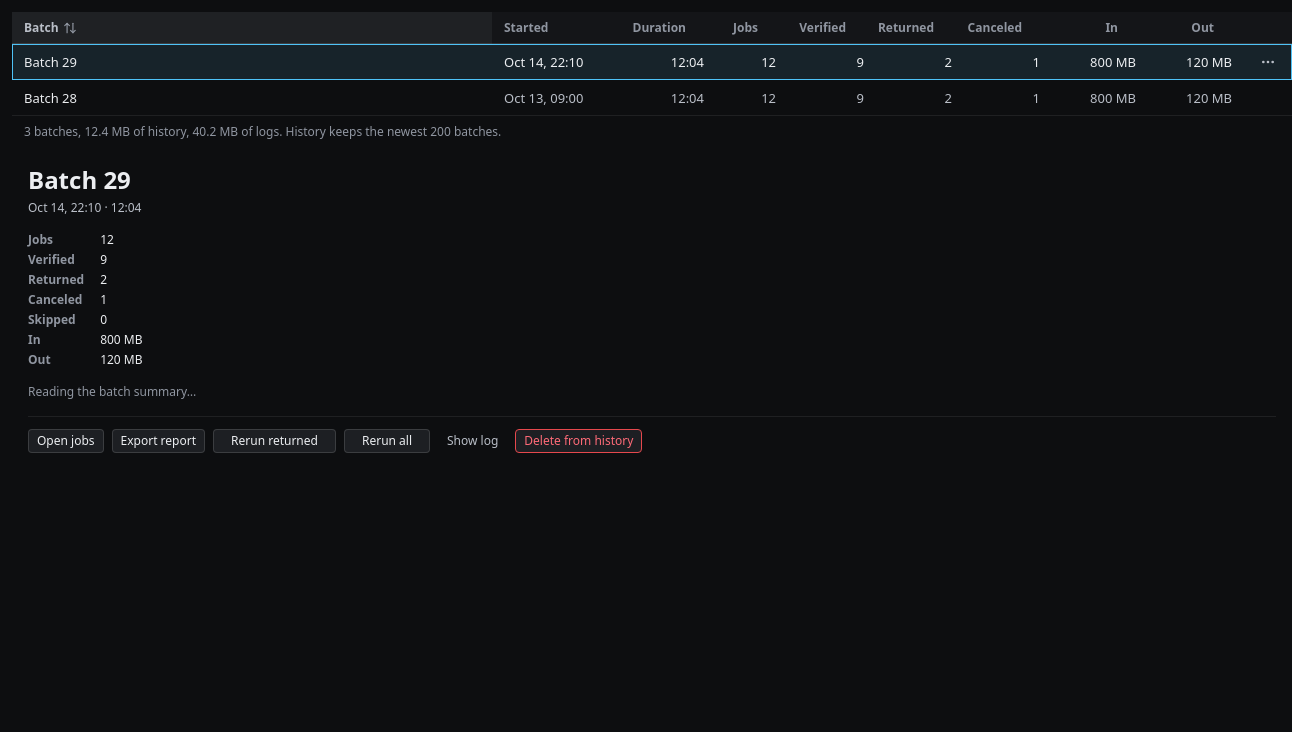
History inspector › deletes from history after its inline confirmation and moves focus to the next batch row
The image size is (1292, 732).
Click the button "Delete from history" at (579, 441), box [515,429,642,453]
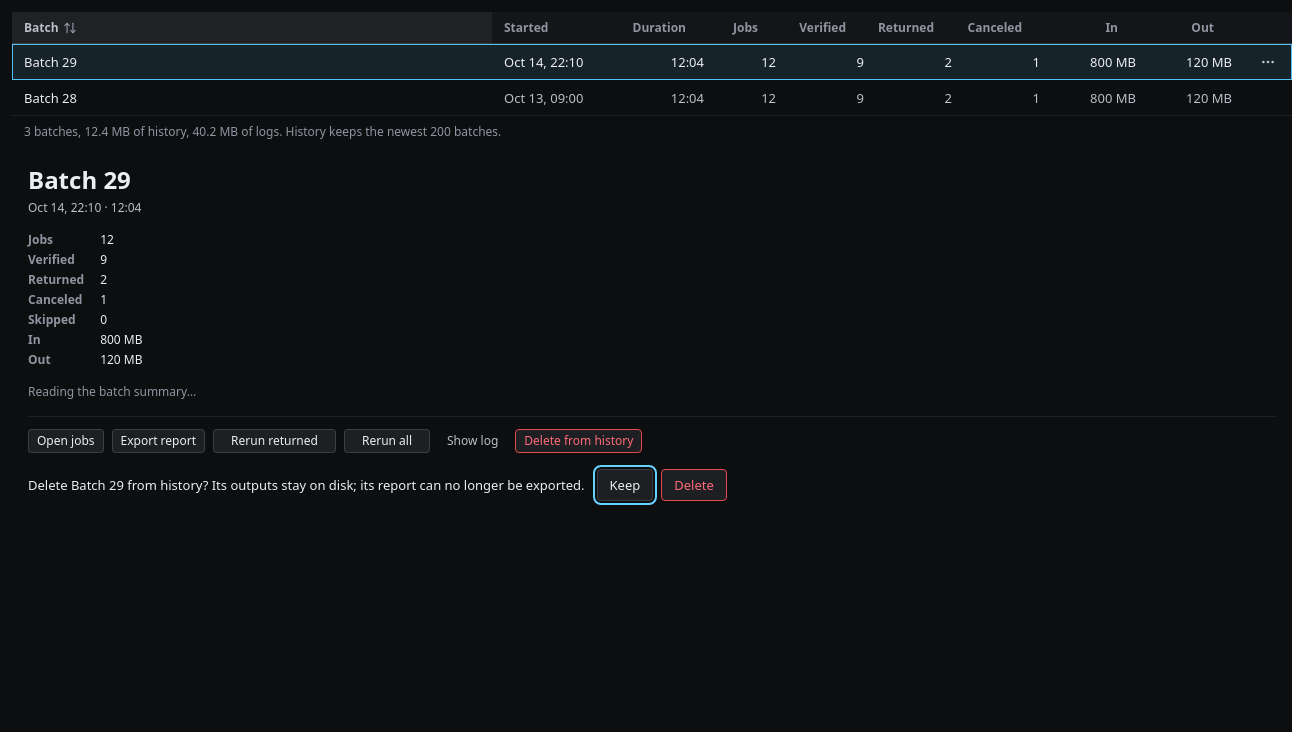
Expected: the text "Delete Batch 29 from history? Its outputs stay on disk; its report can no longer be exported." is shown, [28,476,584,494]
Expected: the button "Keep" is shown
Click the button "Keep" at (625, 485), box [596,469,653,501]
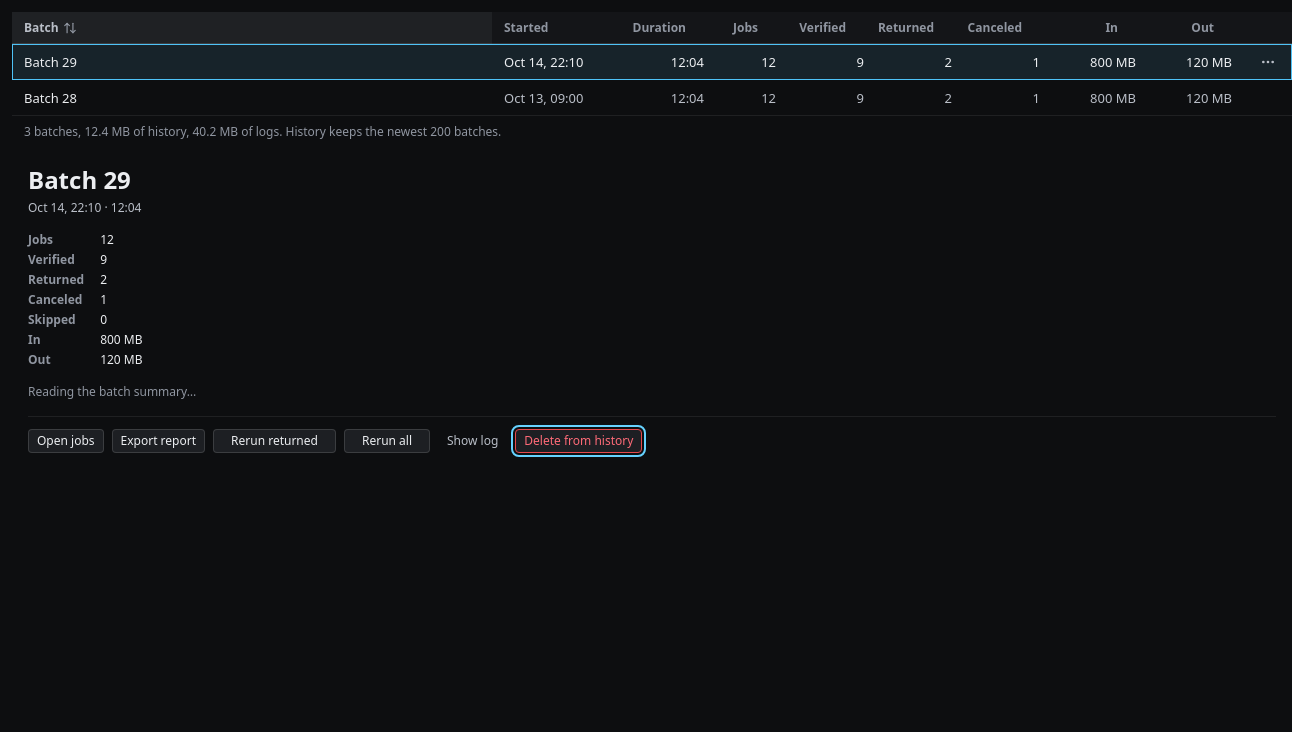
Click the button "Delete from history" at (579, 441), box [515,429,642,453]
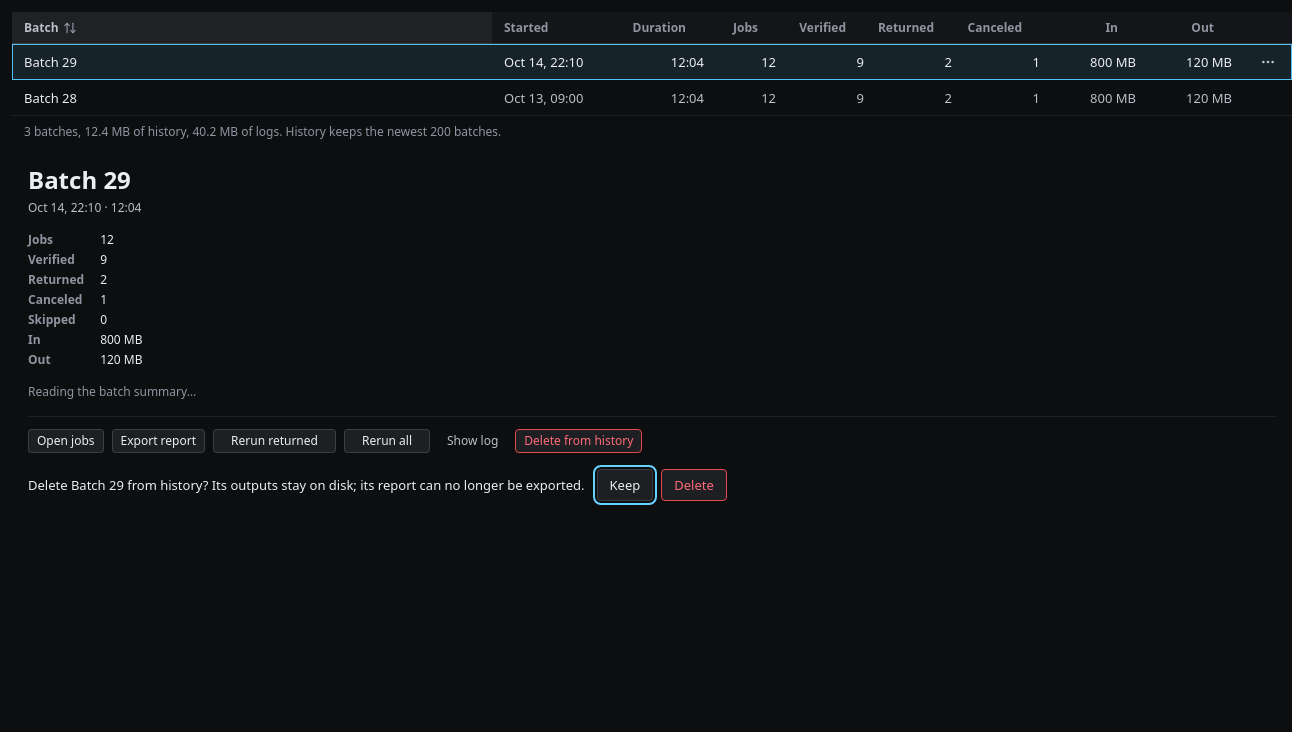
Click the button "Delete" at (694, 485), box [661,469,727,501]
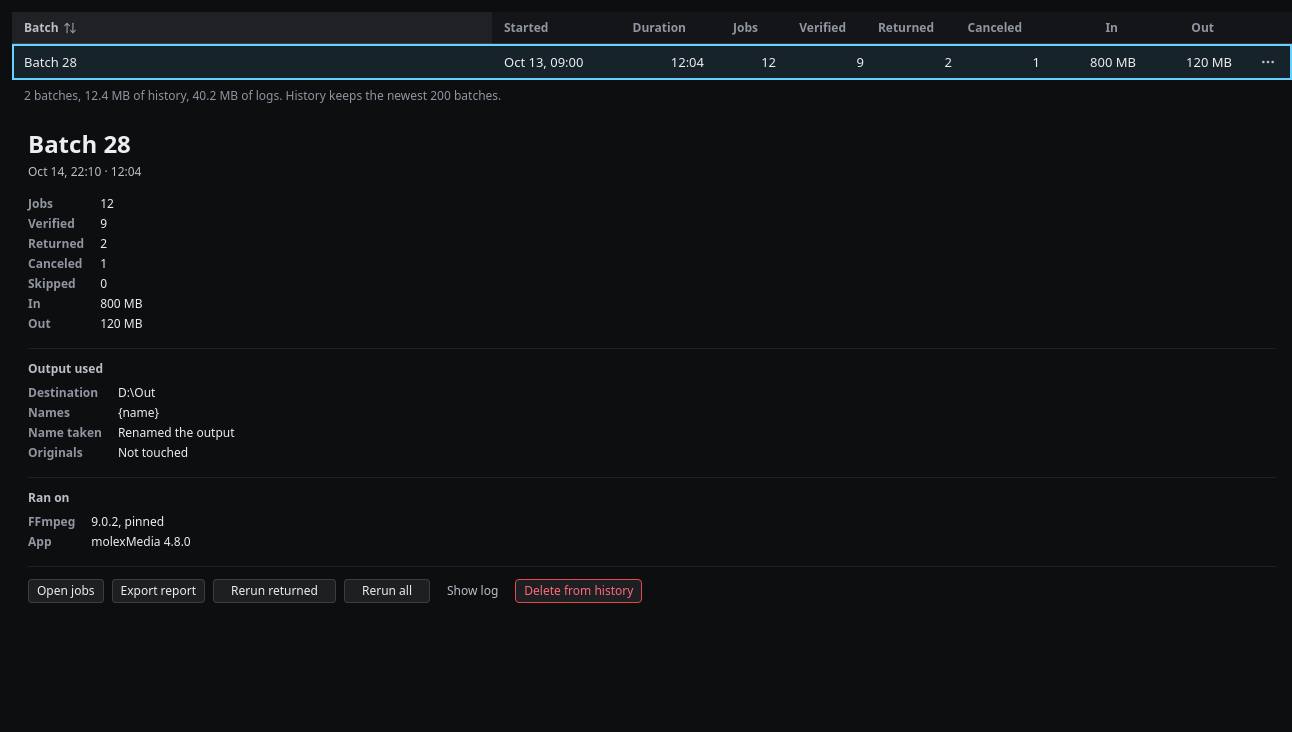
Expected: the heading "Batch 28" is shown, [28,127,131,160]
